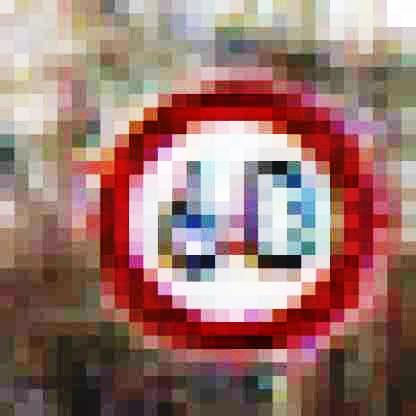Speed Limit -60-: (84, 77, 382, 362)
